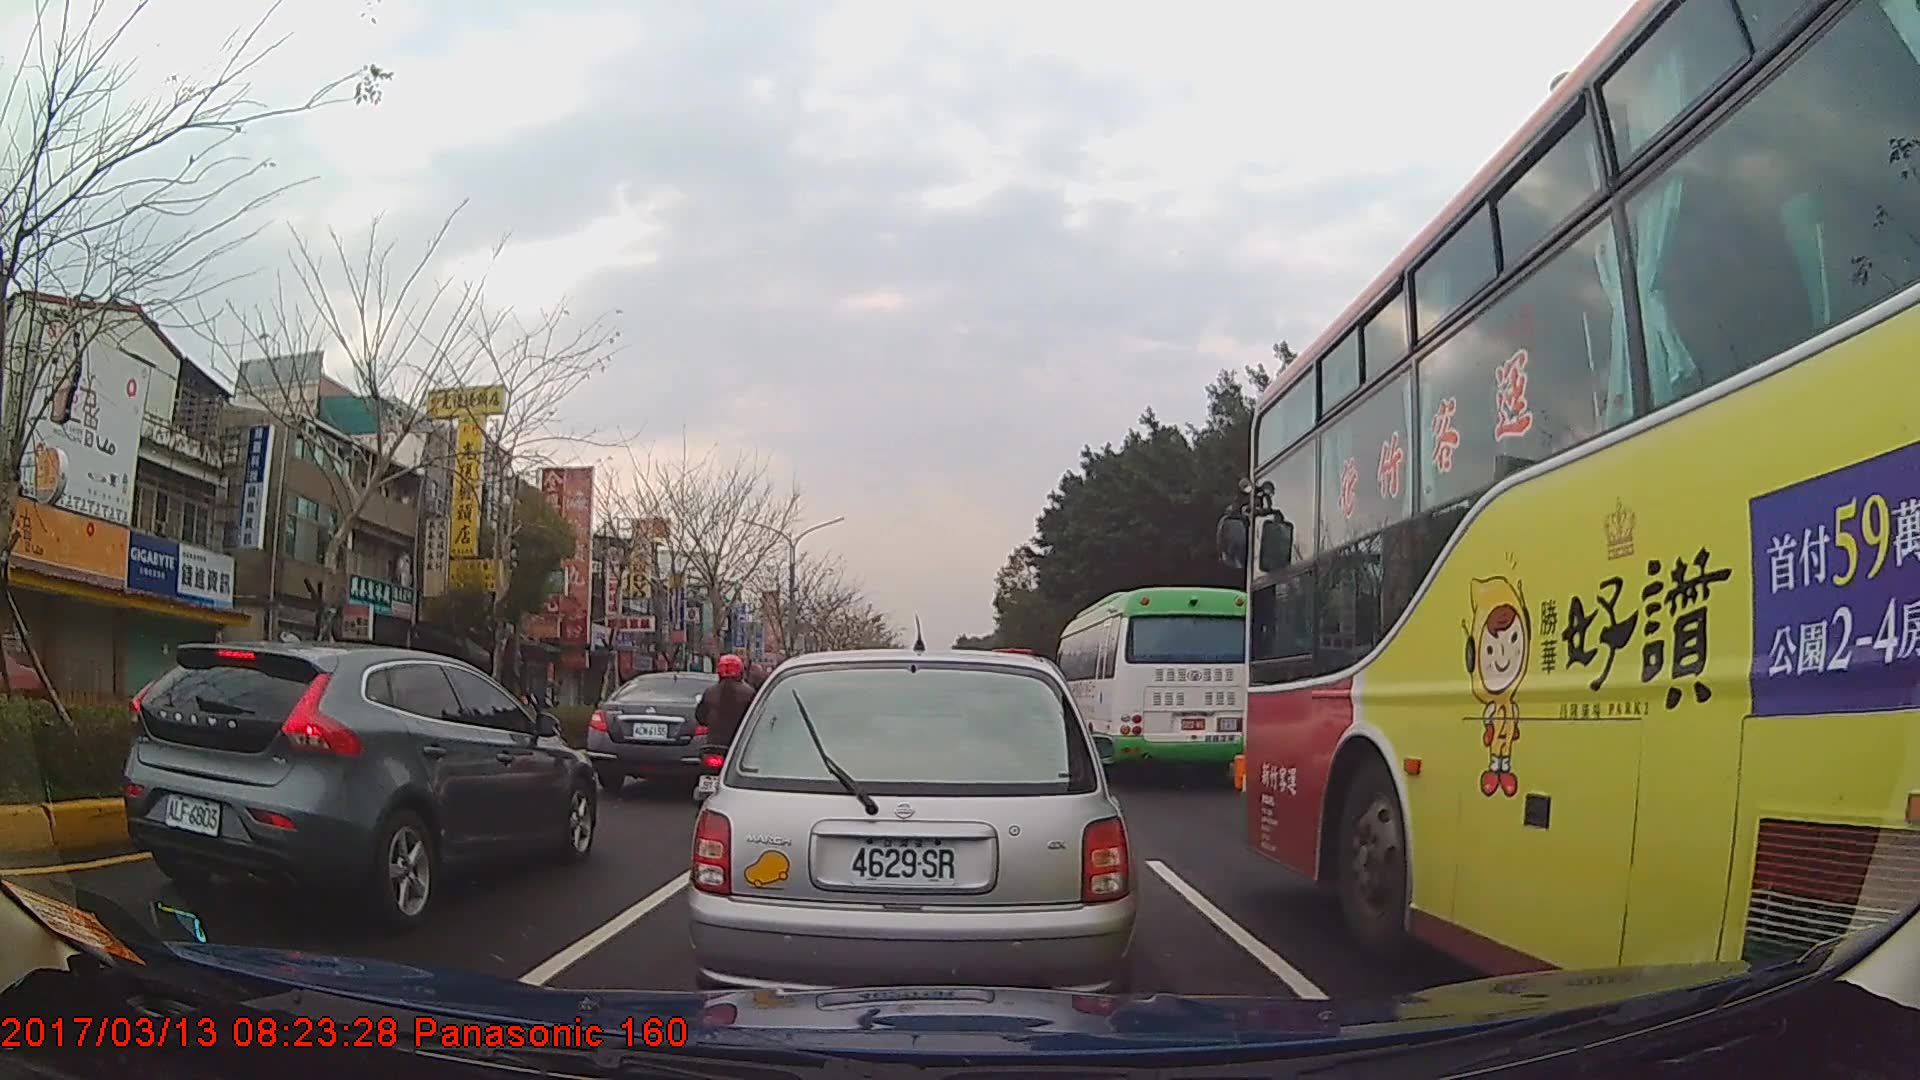rider: (693, 652, 770, 827)
vehicle: (1241, 0, 1920, 1003), (687, 643, 1136, 1012), (119, 639, 598, 930), (1052, 585, 1254, 781), (589, 669, 761, 793)
